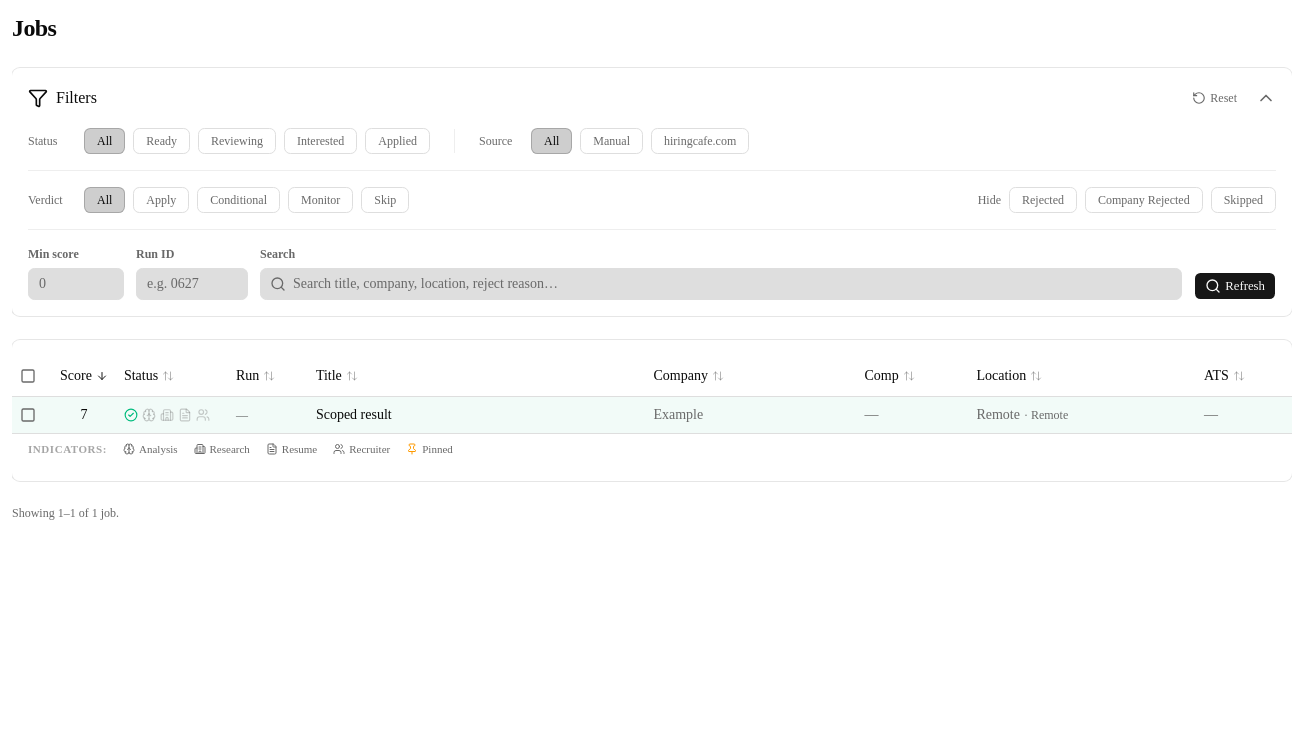
Test: JobsPage query behavior › keeps bulk selection scoped to the visible query
Expected: the text "Scoped result" is shown, [316, 404, 392, 424]
Click the button named "Select Scoped result at Example" at (28,414), box [20, 406, 36, 422]
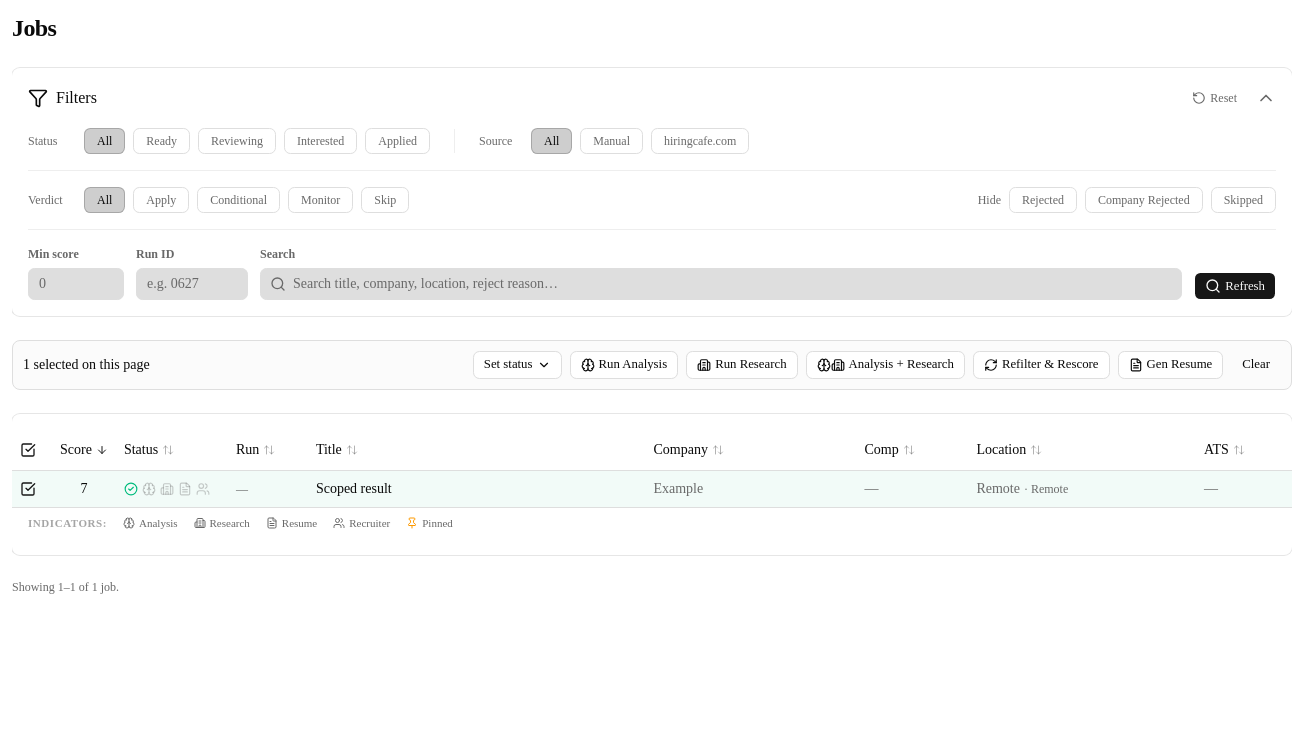
Expected: the text "1 selected on this page" is shown, [23, 355, 150, 375]
Click the button "Status" at (149,450), box [124, 440, 174, 460]
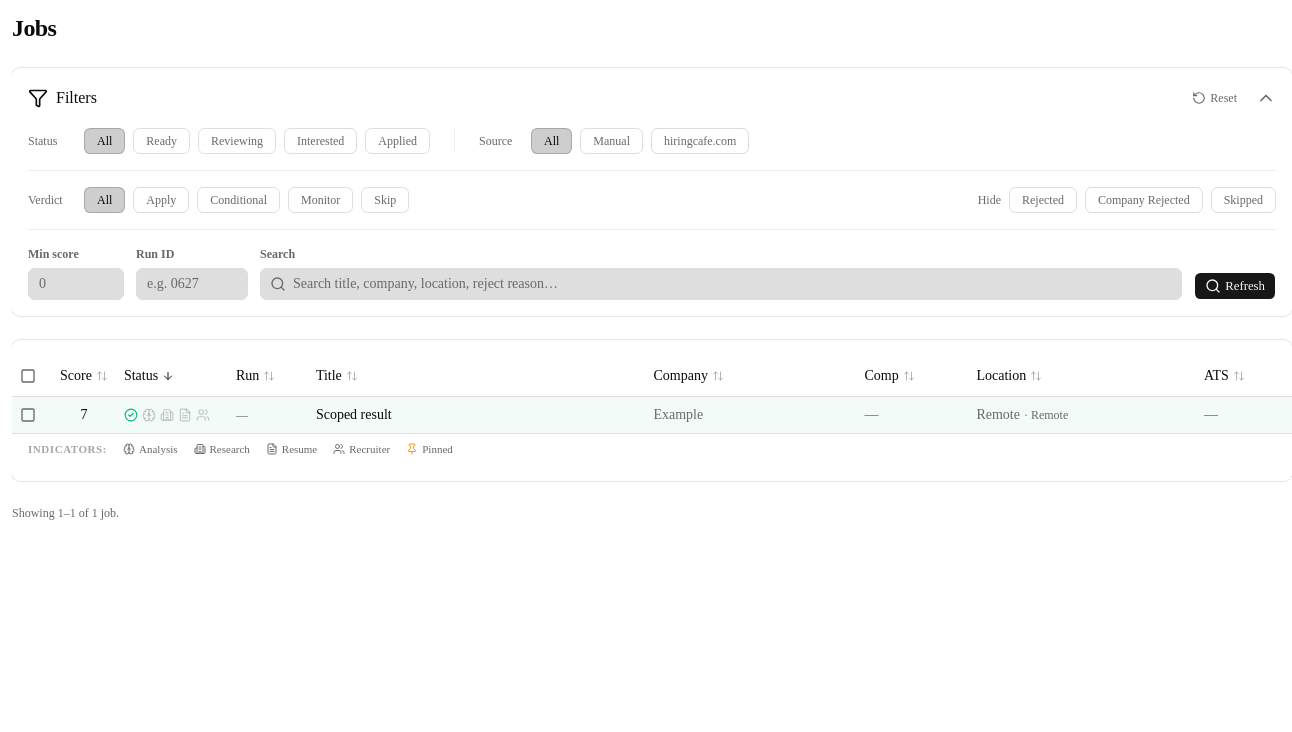
Expected: the text "1 selected on this page" is gone
